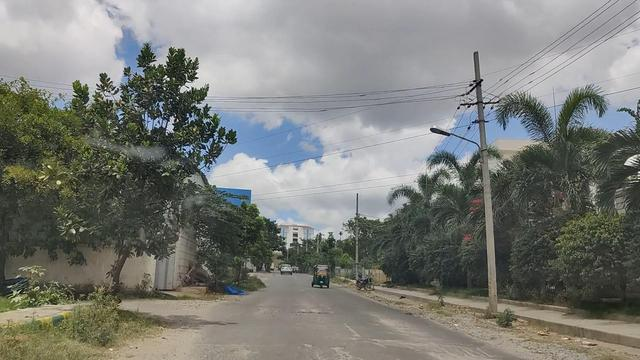RoadDamages: (359, 329, 429, 358), (282, 306, 346, 323)
